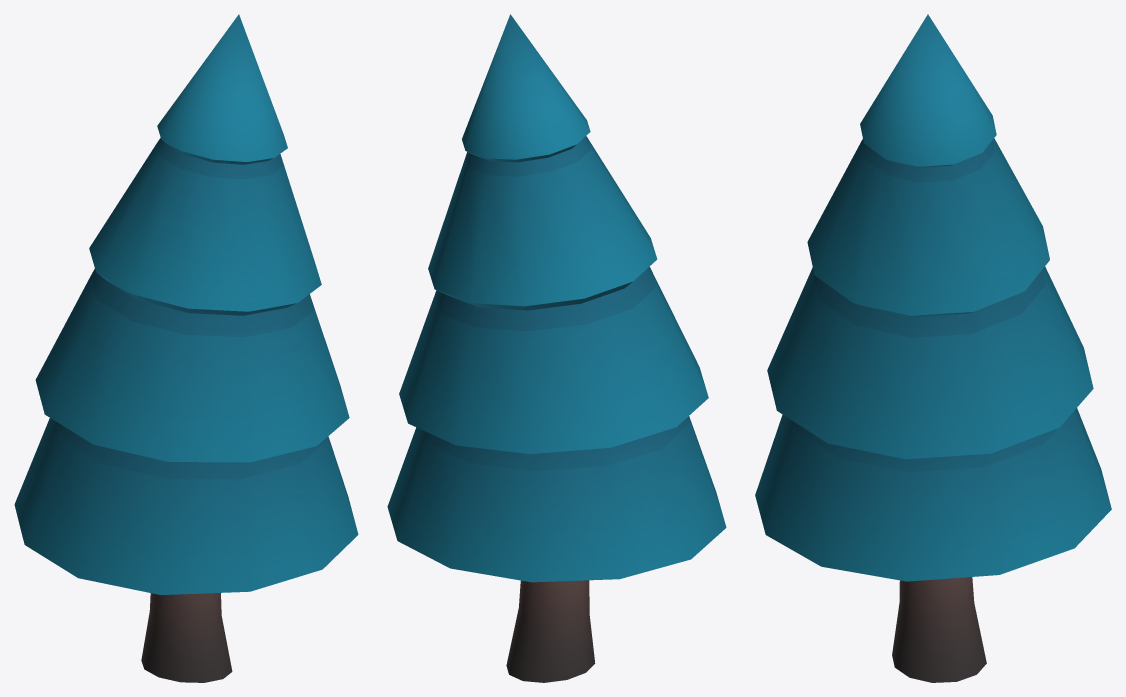
File: Ёлка1.fbx
The picture shows the model from 3 angles, left to right: view 1: azimuth 30°, elevation 25°; view 2: azimuth 150°, elevation 25°; view 3: azimuth 270°, elevation 25°; orthographic projection. The views are drawn at different scales.
Parts seen in each view (by area): view 1: Ёлка1; view 2: Ёлка1; view 3: Ёлка1.
Boxes of the visible parts, x1,y1,x2,y2 form: Ёлка1: (14,14,358,682); Ёлка1: (387,14,726,682); Ёлка1: (755,14,1111,682).
Size of the model in its own units: 58.8 by 122 by 58.79.
